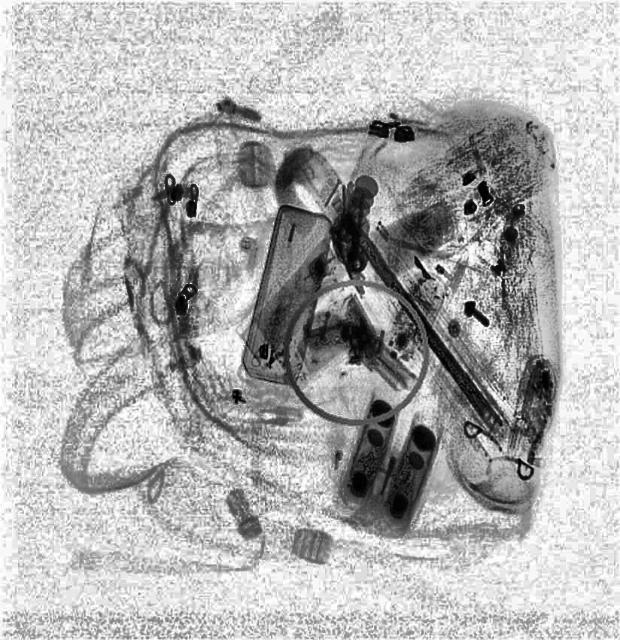Gun: (300, 290, 418, 392)
